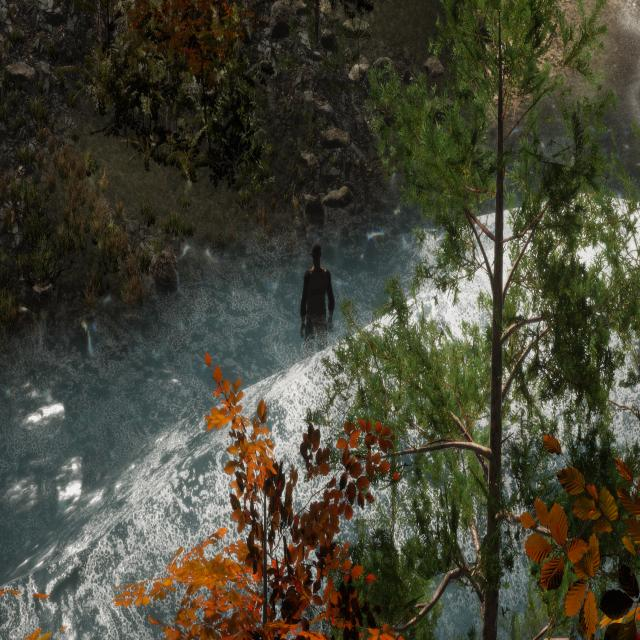Human: (293, 232, 341, 384)
